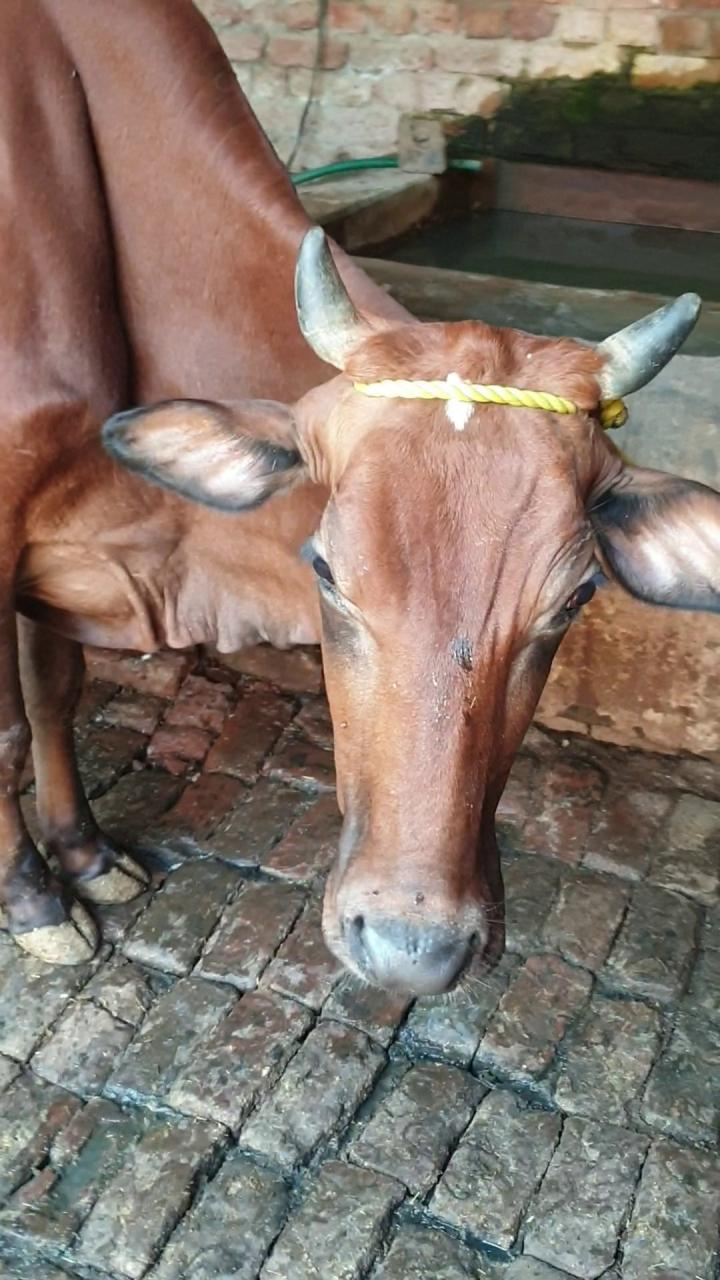cows: (300, 322, 615, 1000)
